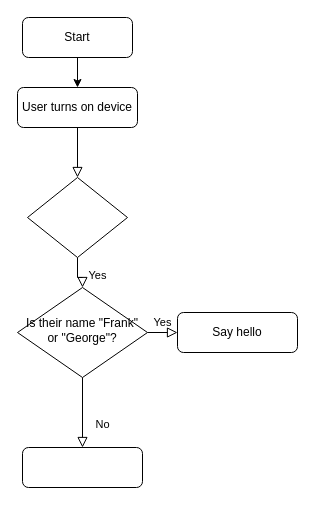
This 315x505 diagram has some shape labels left out. Each missing label, with the centre of its shape:
Please input your name: point (77, 217)
Stop: point (82, 467)
